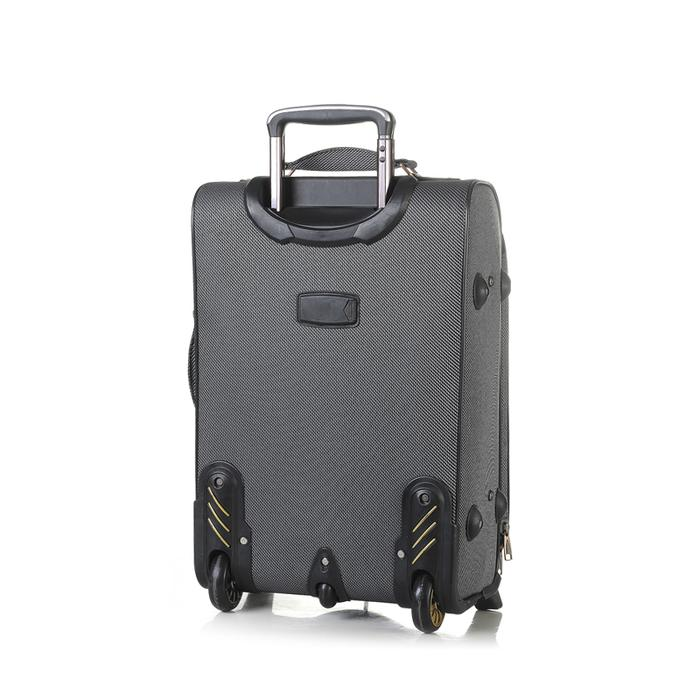luggage: (184, 104, 515, 635)
